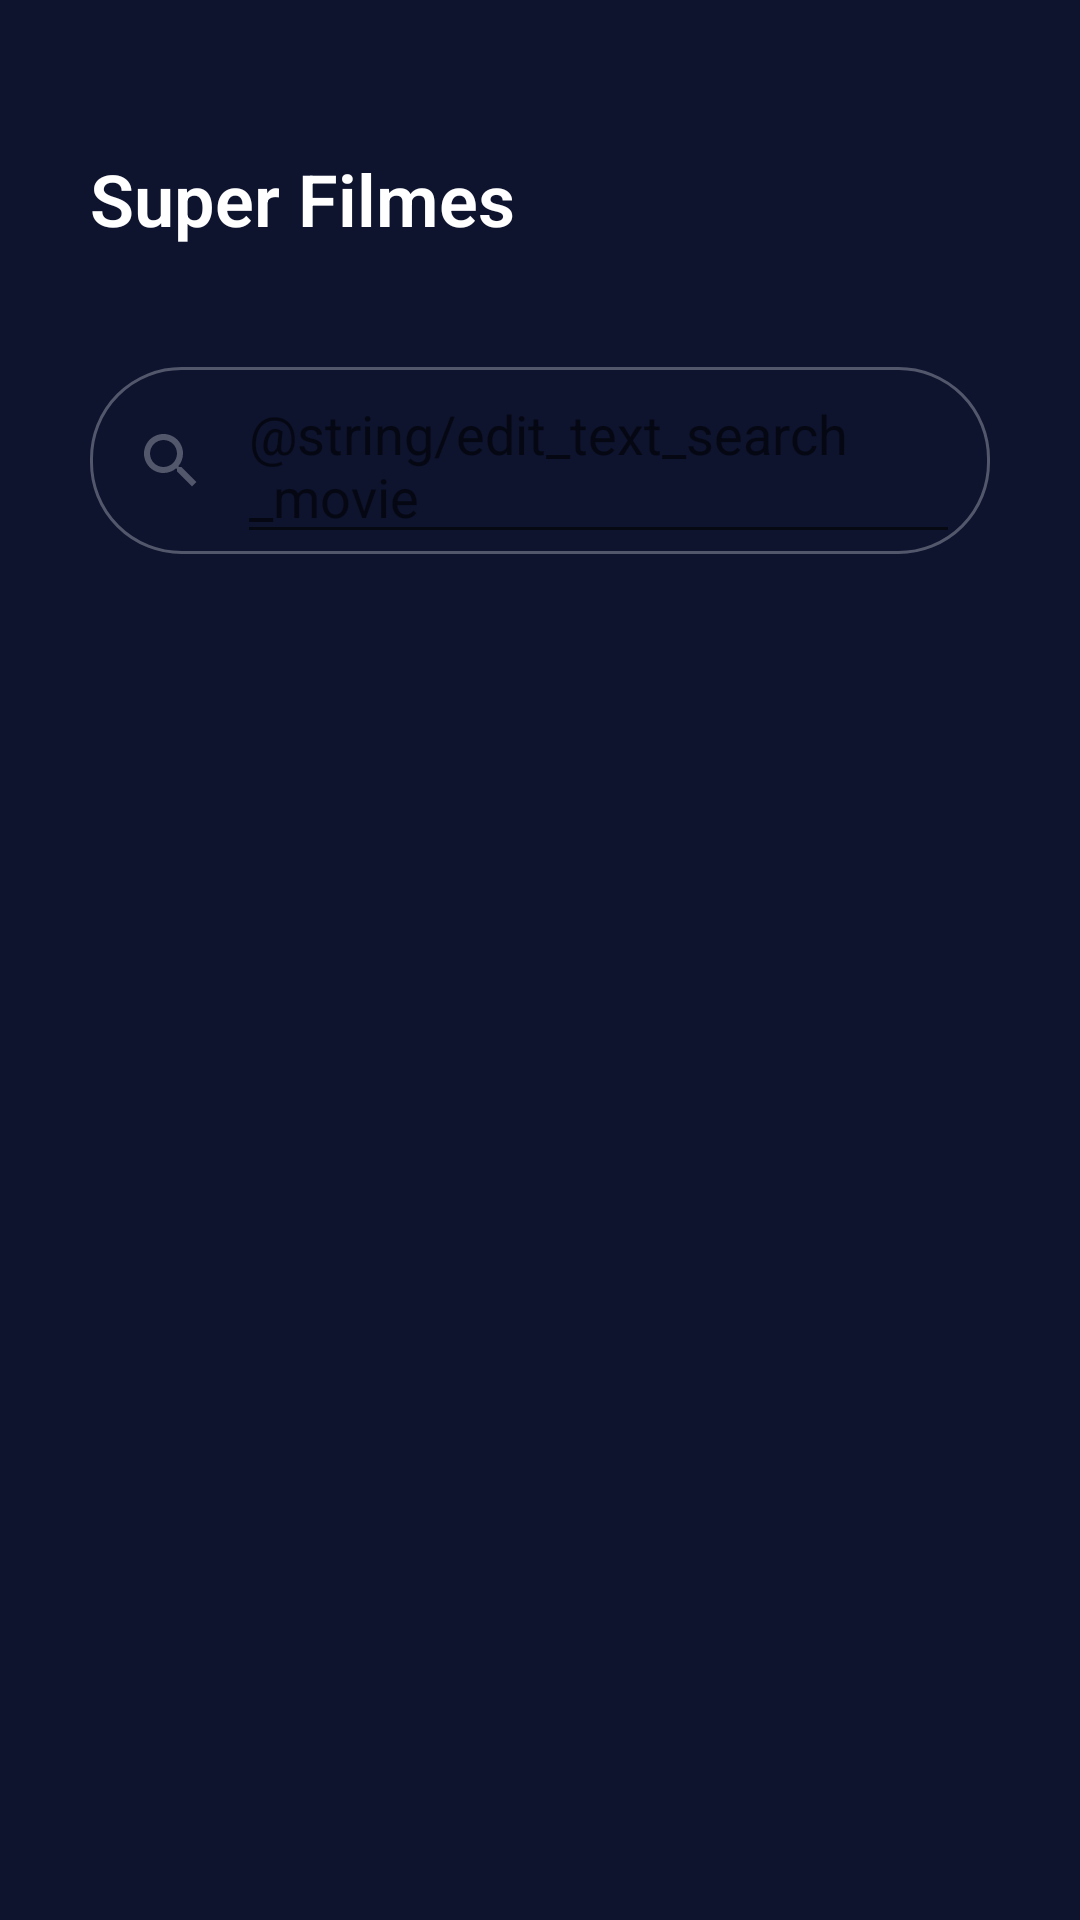

Where to tap for icons on this 1080x1920 app screen, as (x=x, y=y):
search: (x=170, y=460)
